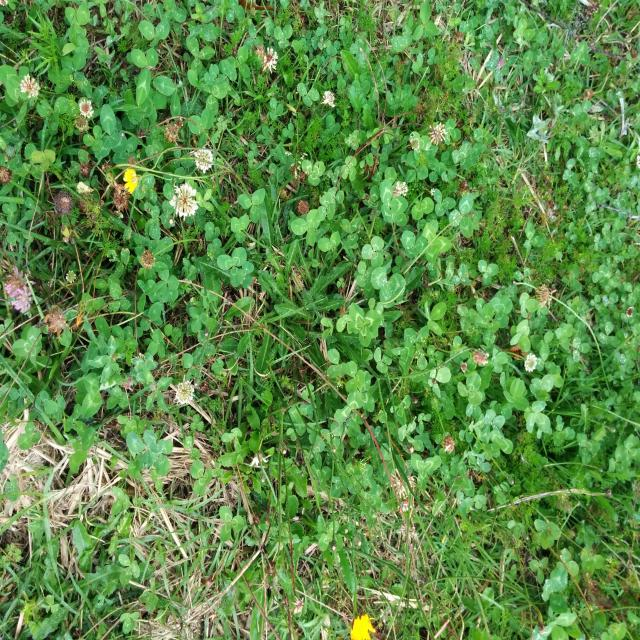Four Leaf Clover: (347, 303, 381, 347)
